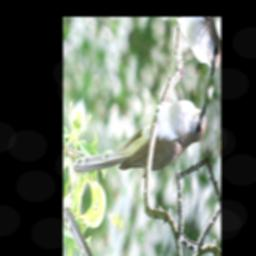Cuckoo: (70, 32, 211, 247)
